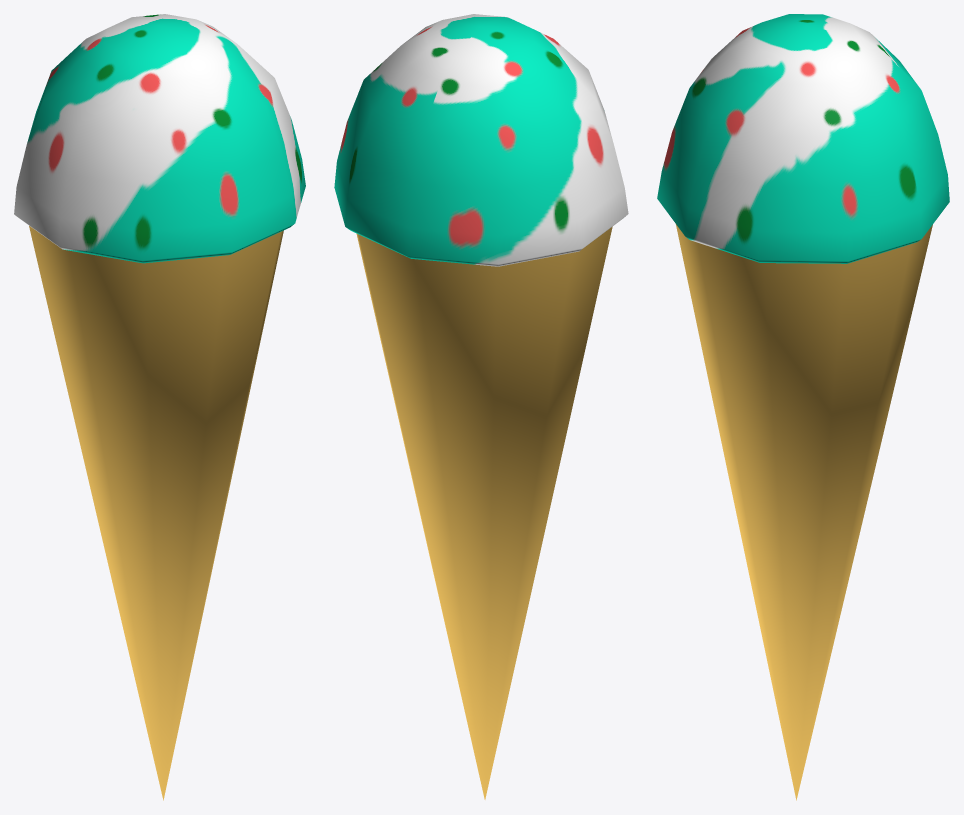
Rendered from iceデスネッ.fbx.
3 renders of one model, left to right at view 1: azimuth 30°, elevation 25°; view 2: azimuth 150°, elevation 25°; view 3: azimuth 270°, elevation 25°, orthographic.
Parts seen in each view (by area): view 1: pCone1; view 2: pCone1; view 3: pCone1.
Part boxes in pixels (box(x1,y1,x2,y2)): pCone1: box(14, 14, 305, 800); pCone1: box(334, 14, 628, 799); pCone1: box(657, 14, 949, 800).
Size of the model in its own units: 4.15 by 12.39 by 4.24.
Materials: 1 (1 with a texture image).
